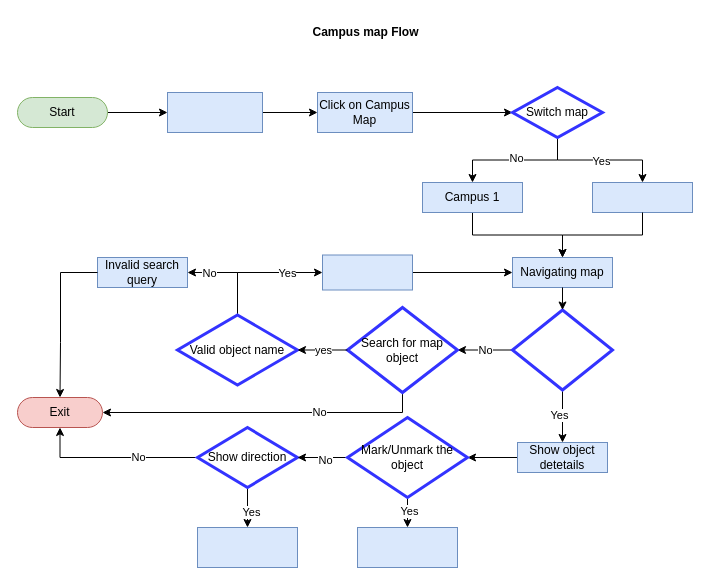
Some shapes in this 710 by 585 pixel diagram are drawn without their labels. The centre of each missing label's shape, as x and y in pixels:
"Campus 2" belongs at (x=642, y=197).
"Click on map object" belongs at (x=562, y=349).
"Directed to object" belongs at (x=367, y=272).
"Home page" belongs at (x=214, y=112).
"Object being marked/unmarked" belongs at (x=407, y=547).
"Show optimal path to the object" belongs at (x=247, y=547).
